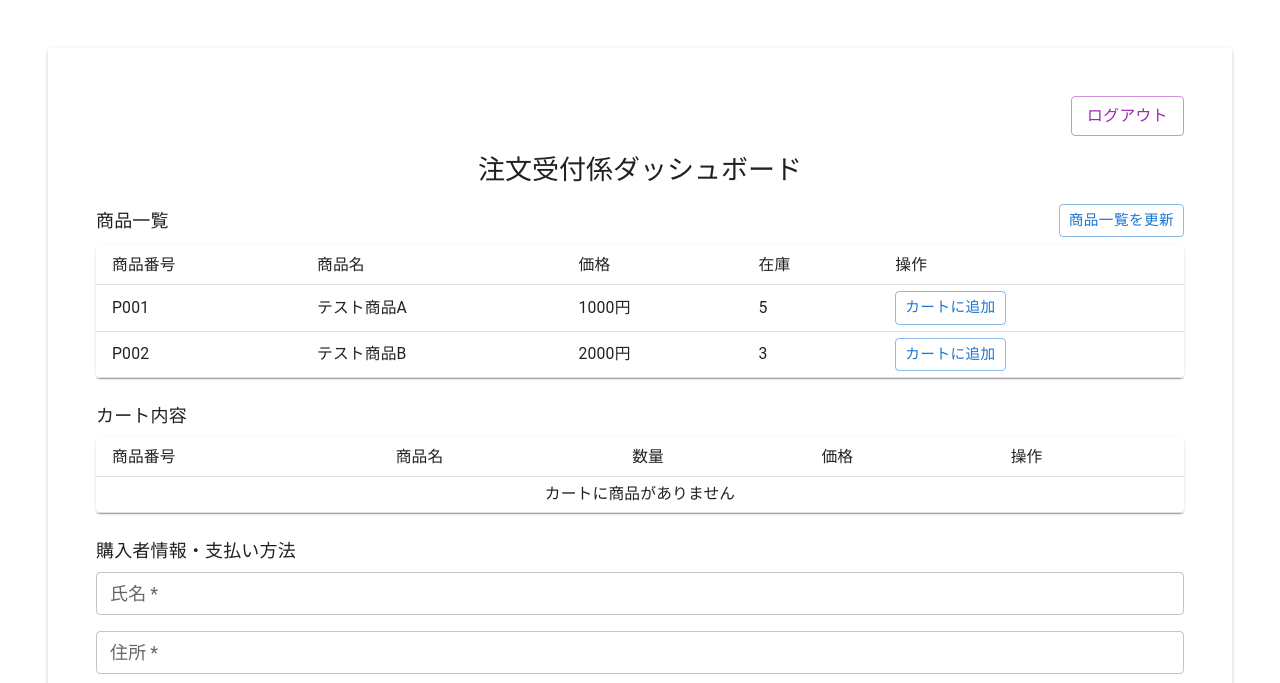
Test: OrderTakerDashboard › カートから商品を削除できる
Expected: the text "テスト商品A" is shown, [301,285,562,331]
Click the button "カートに追加" in the row of "P001" at (950, 308), box [895,291,1006,325]
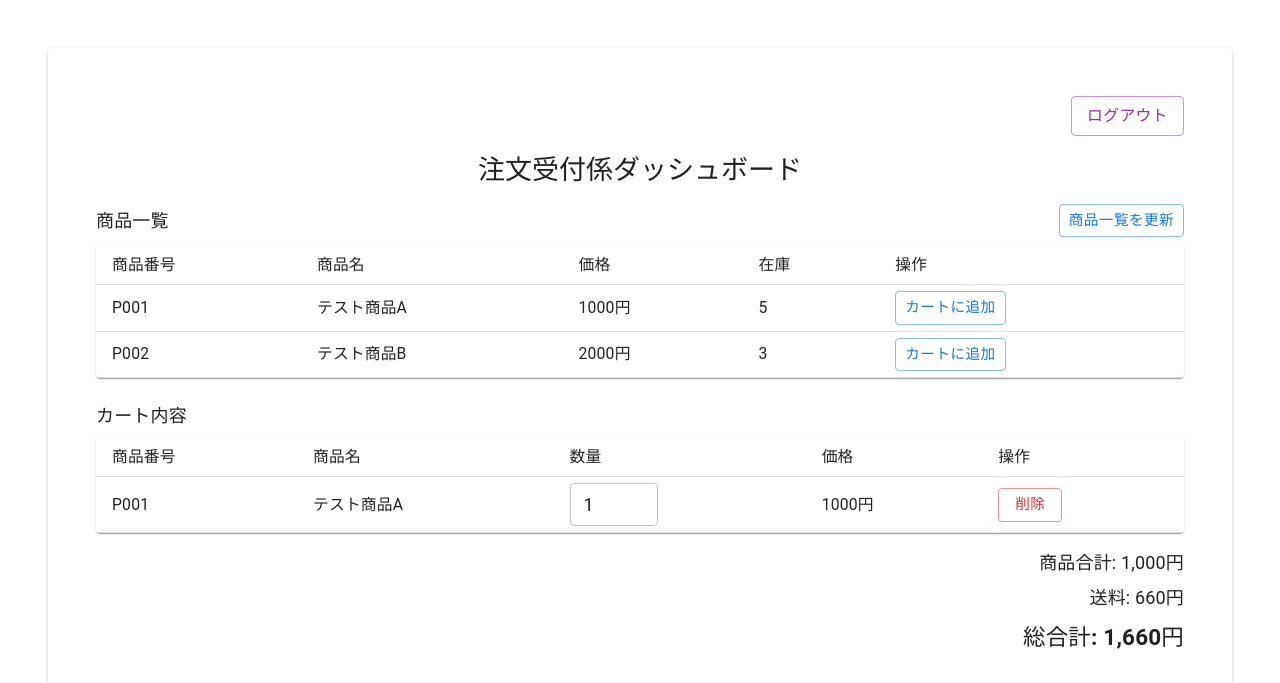
#  カートから削除
Click the button "削除" at (1030, 505), box [998,488,1062,522]
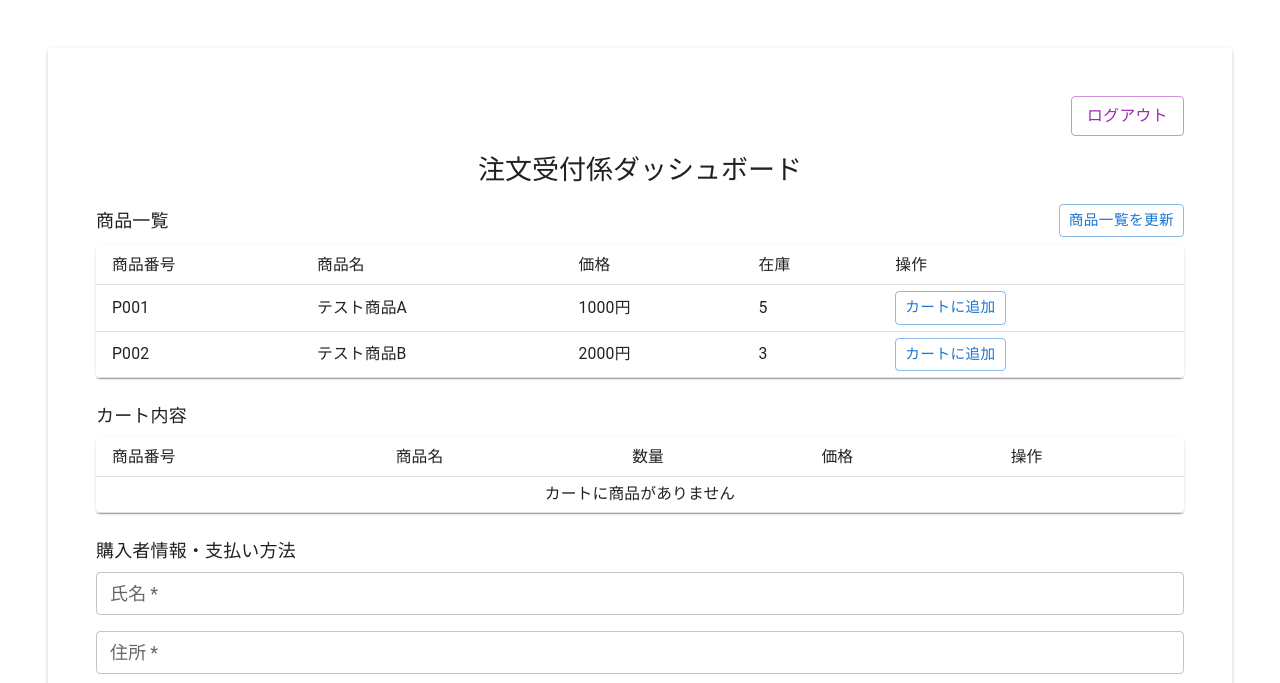
Expected: the text "カートに商品がありません" is shown, [96,477,1184,512]
